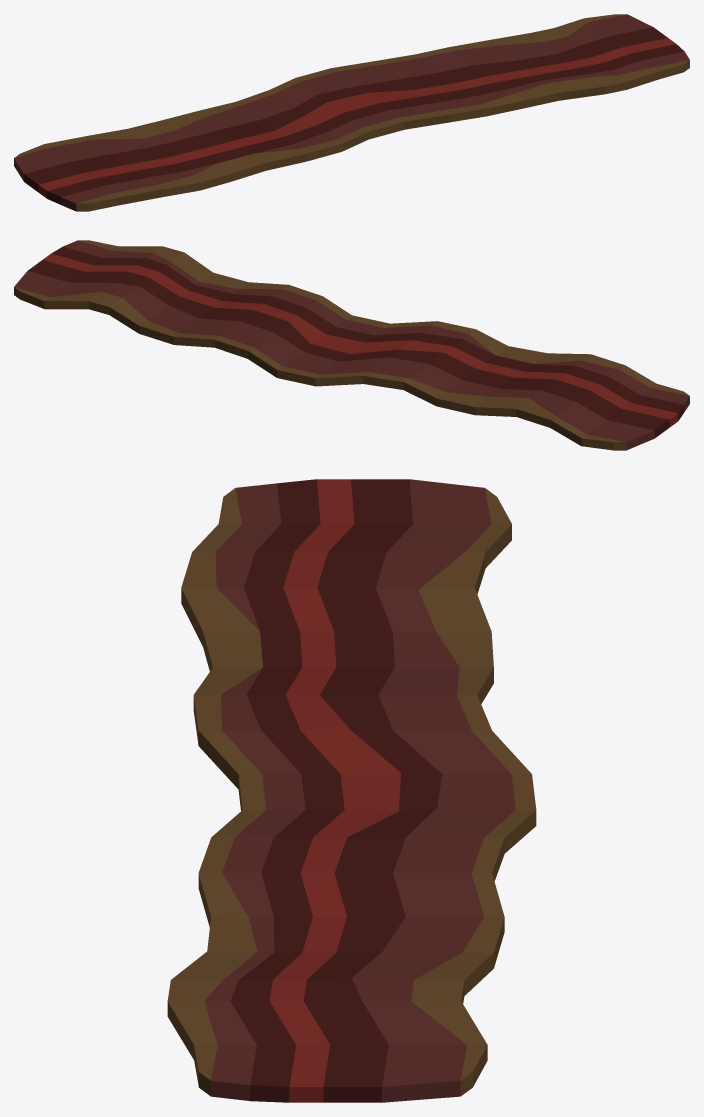
The model's file is Bacon_Uncooked.obj.
The picture shows the model from 3 angles, top to bottom: view 1: azimuth 30°, elevation 25°; view 2: azimuth 150°, elevation 25°; view 3: azimuth 270°, elevation 25°; orthographic projection. The views are drawn at different scales.
Parts seen in each view (by area): view 1: Bacon_Uncooked_Plane.008; view 2: Bacon_Uncooked_Plane.008; view 3: Bacon_Uncooked_Plane.008.
Part boxes in pixels (bbox=[...]): Bacon_Uncooked_Plane.008: bbox=[14, 14, 689, 211]; Bacon_Uncooked_Plane.008: bbox=[14, 240, 689, 450]; Bacon_Uncooked_Plane.008: bbox=[167, 479, 536, 1102].
Bounding box in the file's own units: 1.16 × 0.0213 × 0.2968.
